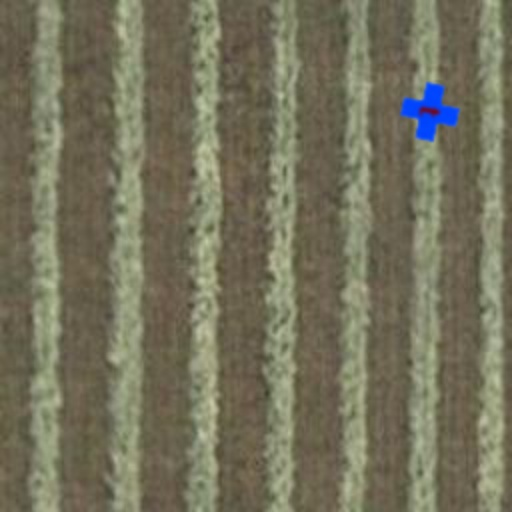cross: (396, 78, 464, 146)
